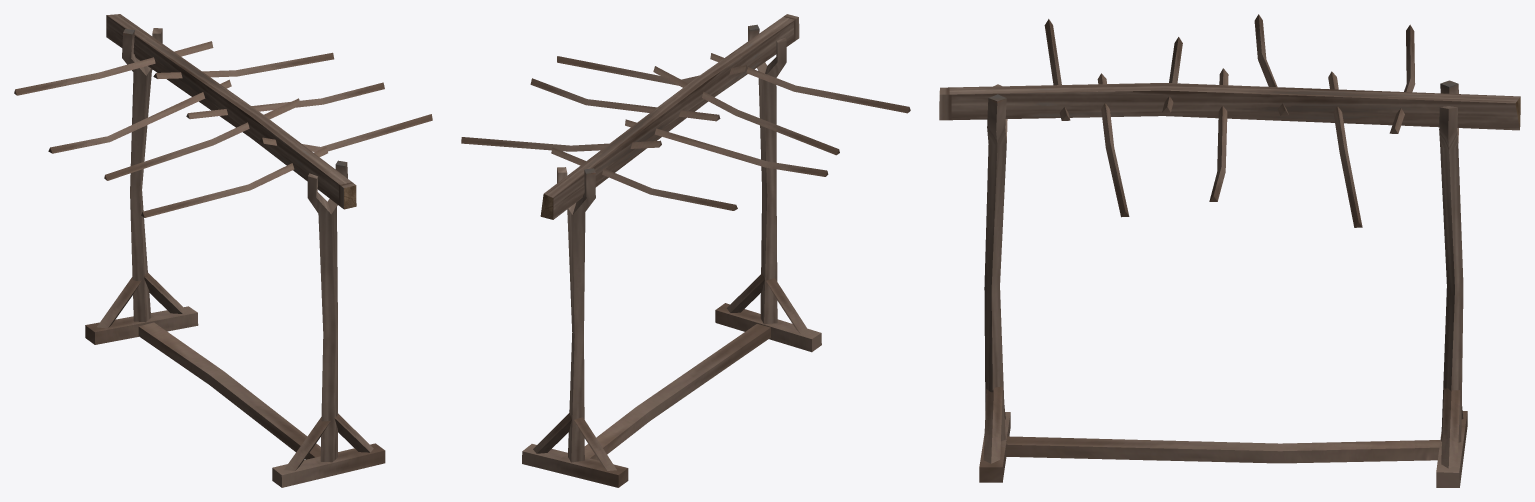
File: handan_field_a_e01b.fbx
The picture shows the model from 3 angles, left to right: view 1: azimuth 30°, elevation 25°; view 2: azimuth 150°, elevation 25°; view 3: azimuth 270°, elevation 25°; orthographic projection. The views are drawn at different scales.
Parts seen in each view (by area): view 1: handan_field_a_e01b; view 2: handan_field_a_e01b; view 3: handan_field_a_e01b.
Part boxes in pixels (x1,y1,x2,y2): handan_field_a_e01b: (14,14,432,487); handan_field_a_e01b: (461,14,910,487); handan_field_a_e01b: (939,14,1520,487).
Size of the model in its own units: 348 by 319 by 448.
